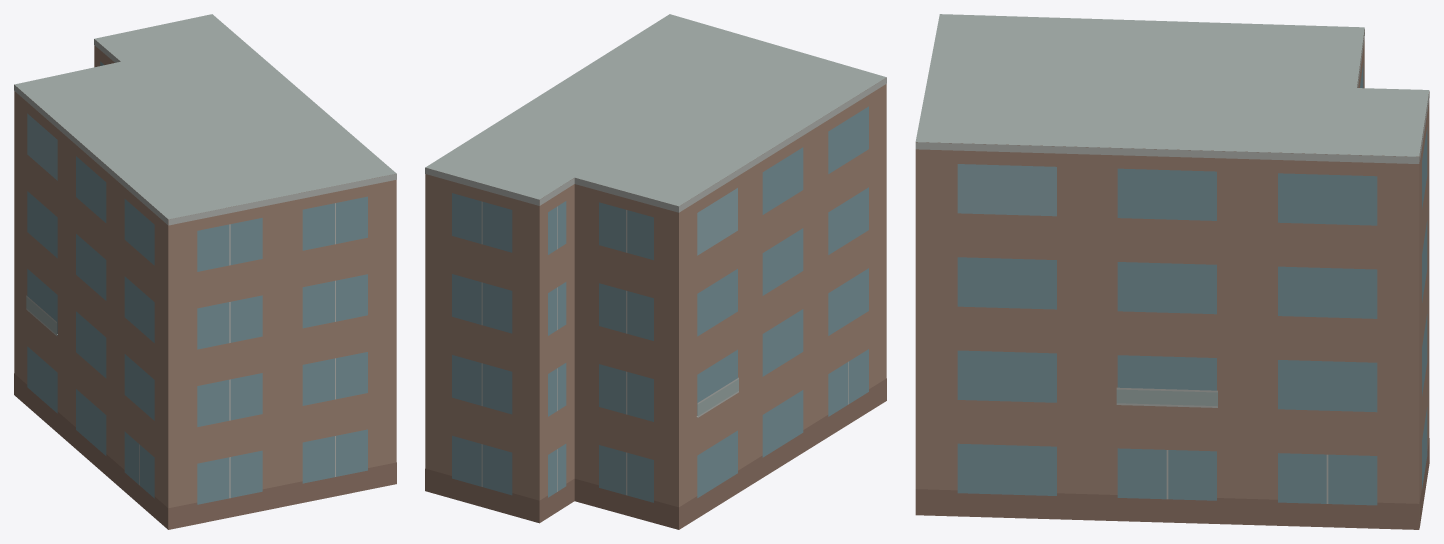
The model's file is survey-upis-33047318.glb.
3 views of the same model, side by side, from view 1: azimuth 30°, elevation 25°; view 2: azimuth 150°, elevation 25°; view 3: azimuth 270°, elevation 25° (orthographic). The views are drawn at different scales.
Parts seen in each view (by area): view 1: survey-upis-33047318.tmp; view 2: survey-upis-33047318.tmp; view 3: survey-upis-33047318.tmp.
Boxes of the visible parts, x1,y1,x2,y2 form: survey-upis-33047318.tmp: (14,14,396,529); survey-upis-33047318.tmp: (425,14,886,529); survey-upis-33047318.tmp: (915,14,1429,529).
Bounding box in the file's own units: 10.19 × 12.4 × 15.49.
